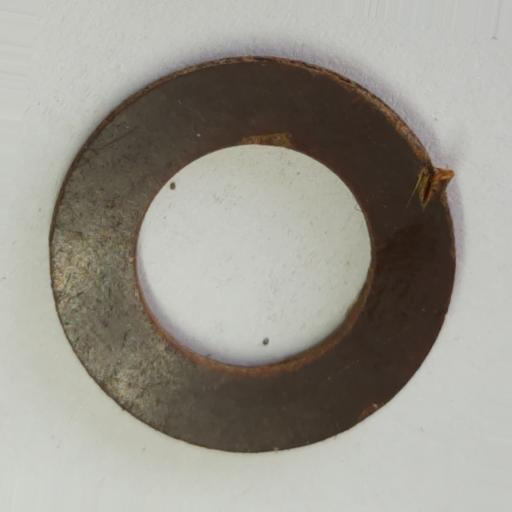defect: (411, 164, 454, 209)
